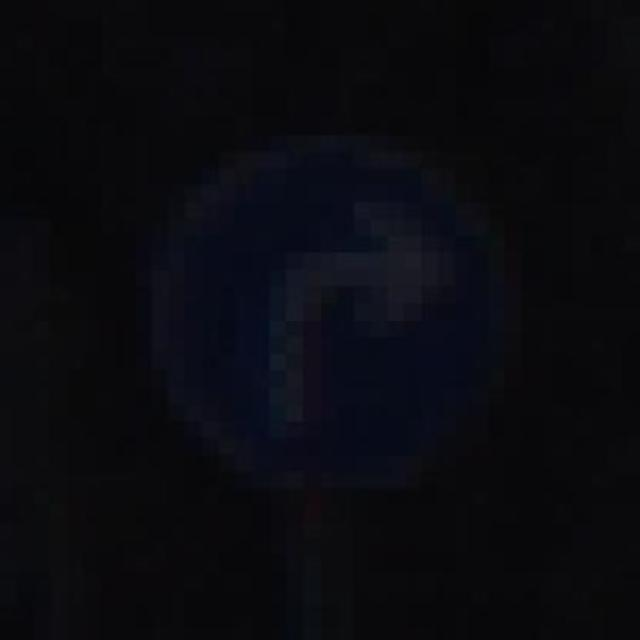Turn right ahead: (135, 84, 539, 522)
